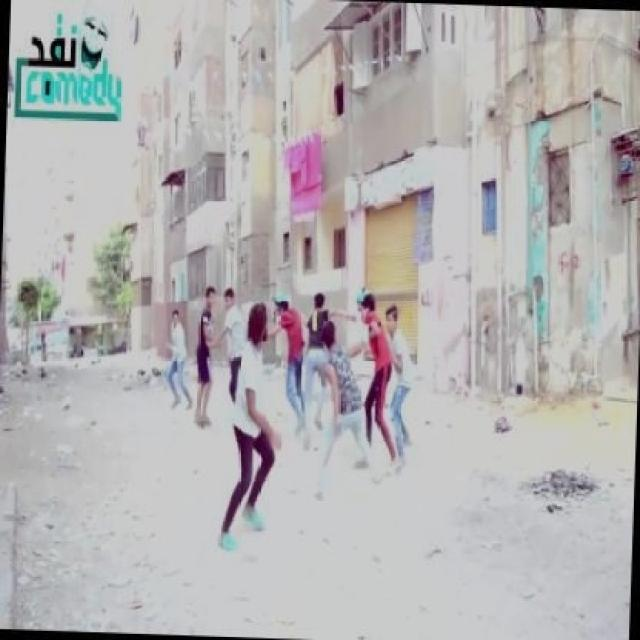fight: (311, 288, 402, 488)
